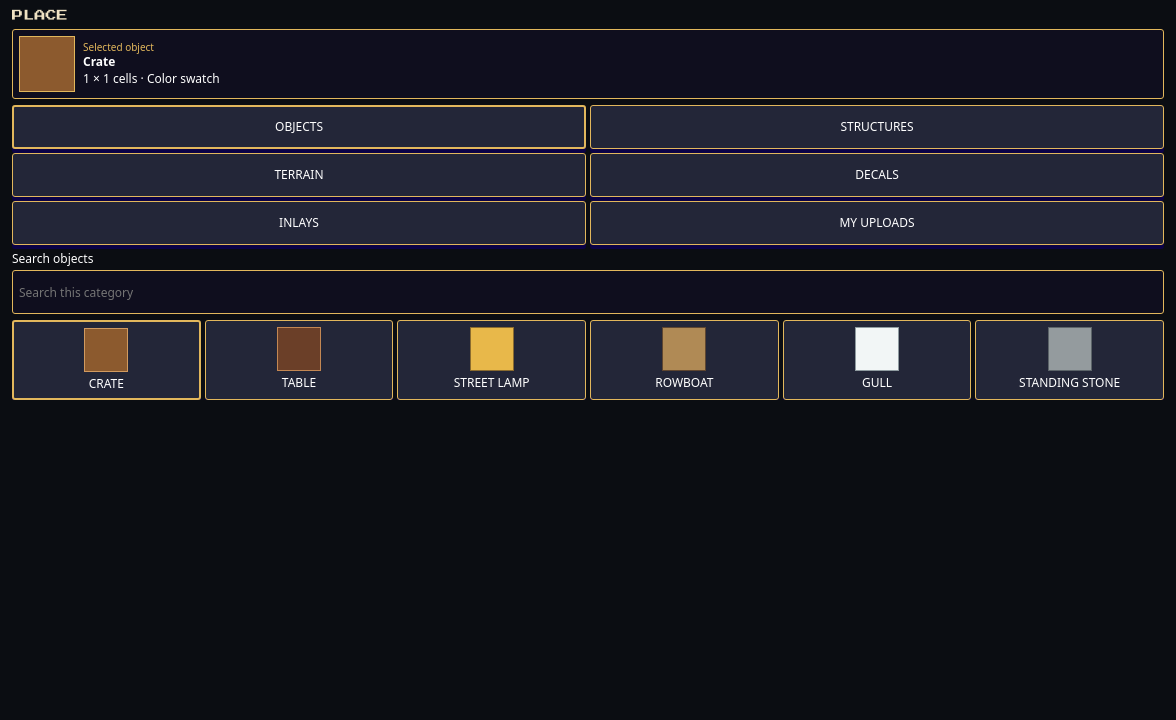
Test case: MobileAssetPicker — My uploads › shelves across surfaces: a stored upload appears as a swatch
Click the button "My uploads": point(877, 223) [590,201,1164,245]
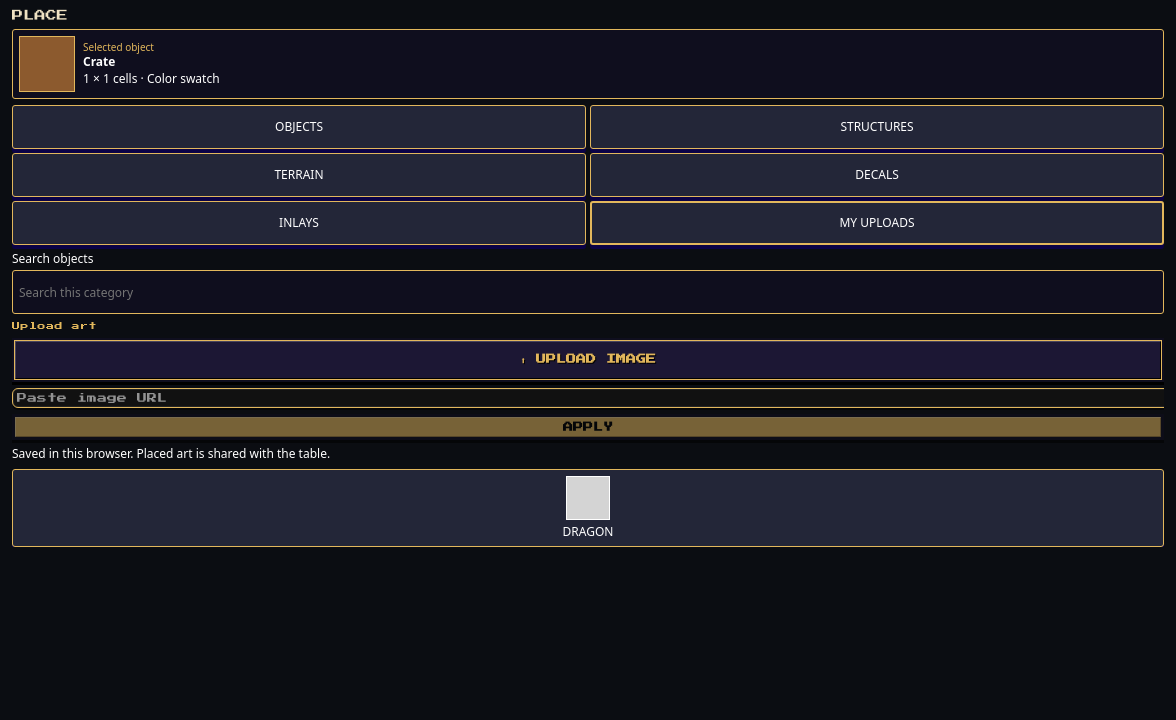
Expected: the button "Dragon" is shown, [12,469,1164,547]
